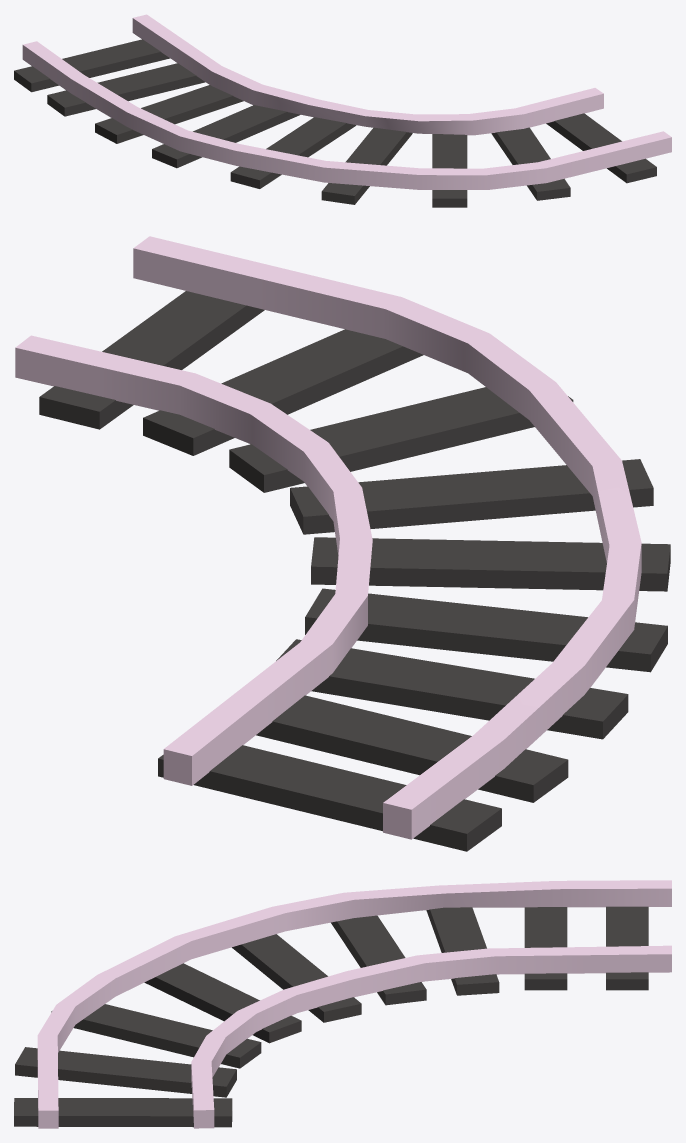
The model's file is railsIndoor2.fbx.
3 views of the same model, one above another, from view 1: azimuth 30°, elevation 25°; view 2: azimuth 150°, elevation 25°; view 3: azimuth 270°, elevation 25° (orthographic). The views are drawn at different scales.
Visible parts, largest first — view 1: Cube, Cube.001, Cube.007, Cube.010, Cube.006, Cube.005, Cube.003, Cube.002, Cube.009, Cube.008, Cube.004; view 2: Cube, Cube.001, Cube.003, Cube.002, Cube.005, Cube.010, Cube.006, Cube.007, Cube.004, Cube.008, Cube.009; view 3: Cube, Cube.001, Cube.008, Cube.009, Cube.004, Cube.002, Cube.003, Cube.005, Cube.006, Cube.007, Cube.010.
Part boxes in pixels (left/top/right/bottom): Cube: left=22, top=41, right=671, bottom=189; Cube.001: left=132, top=14, right=603, bottom=135; Cube.007: left=47, top=63, right=205, bottom=116; Cube.010: left=14, top=39, right=169, bottom=92; Cube.006: left=95, top=85, right=243, bottom=143; Cube.005: left=152, top=105, right=300, bottom=168; Cube.003: left=230, top=117, right=356, bottom=188; Cube.002: left=321, top=127, right=412, bottom=204; Cube.009: left=546, top=113, right=656, bottom=183; Cube.008: left=491, top=127, right=570, bottom=200; Cube.004: left=432, top=134, right=467, bottom=207; Cube: left=133, top=236, right=641, bottom=839; Cube.001: left=15, top=335, right=372, bottom=785; Cube.003: left=311, top=537, right=670, bottom=591; Cube.002: left=290, top=459, right=653, bottom=534; Cube.005: left=305, top=588, right=667, bottom=672; Cube.010: left=158, top=745, right=501, bottom=851; Cube.006: left=276, top=639, right=628, bottom=739; Cube.007: left=256, top=695, right=568, bottom=802; Cube.004: left=229, top=387, right=573, bottom=492; Cube.008: left=143, top=329, right=423, bottom=455; Cube.009: left=39, top=291, right=264, bottom=429; Cube: left=37, top=880, right=671, bottom=1128; Cube.001: left=191, top=945, right=671, bottom=1128; Cube.008: left=15, top=1047, right=236, bottom=1097; Cube.009: left=14, top=1098, right=232, bottom=1127; Cube.004: left=51, top=1004, right=261, bottom=1068; Cube.002: left=144, top=963, right=301, bottom=1043; Cube.003: left=232, top=934, right=361, bottom=1022; Cube.005: left=331, top=915, right=426, bottom=1005; Cube.006: left=426, top=907, right=499, bottom=995; Cube.007: left=524, top=907, right=567, bottom=990; Cube.010: left=606, top=906, right=648, bottom=990.
Size of the model in its own units: 2701 by 161 by 3083.
